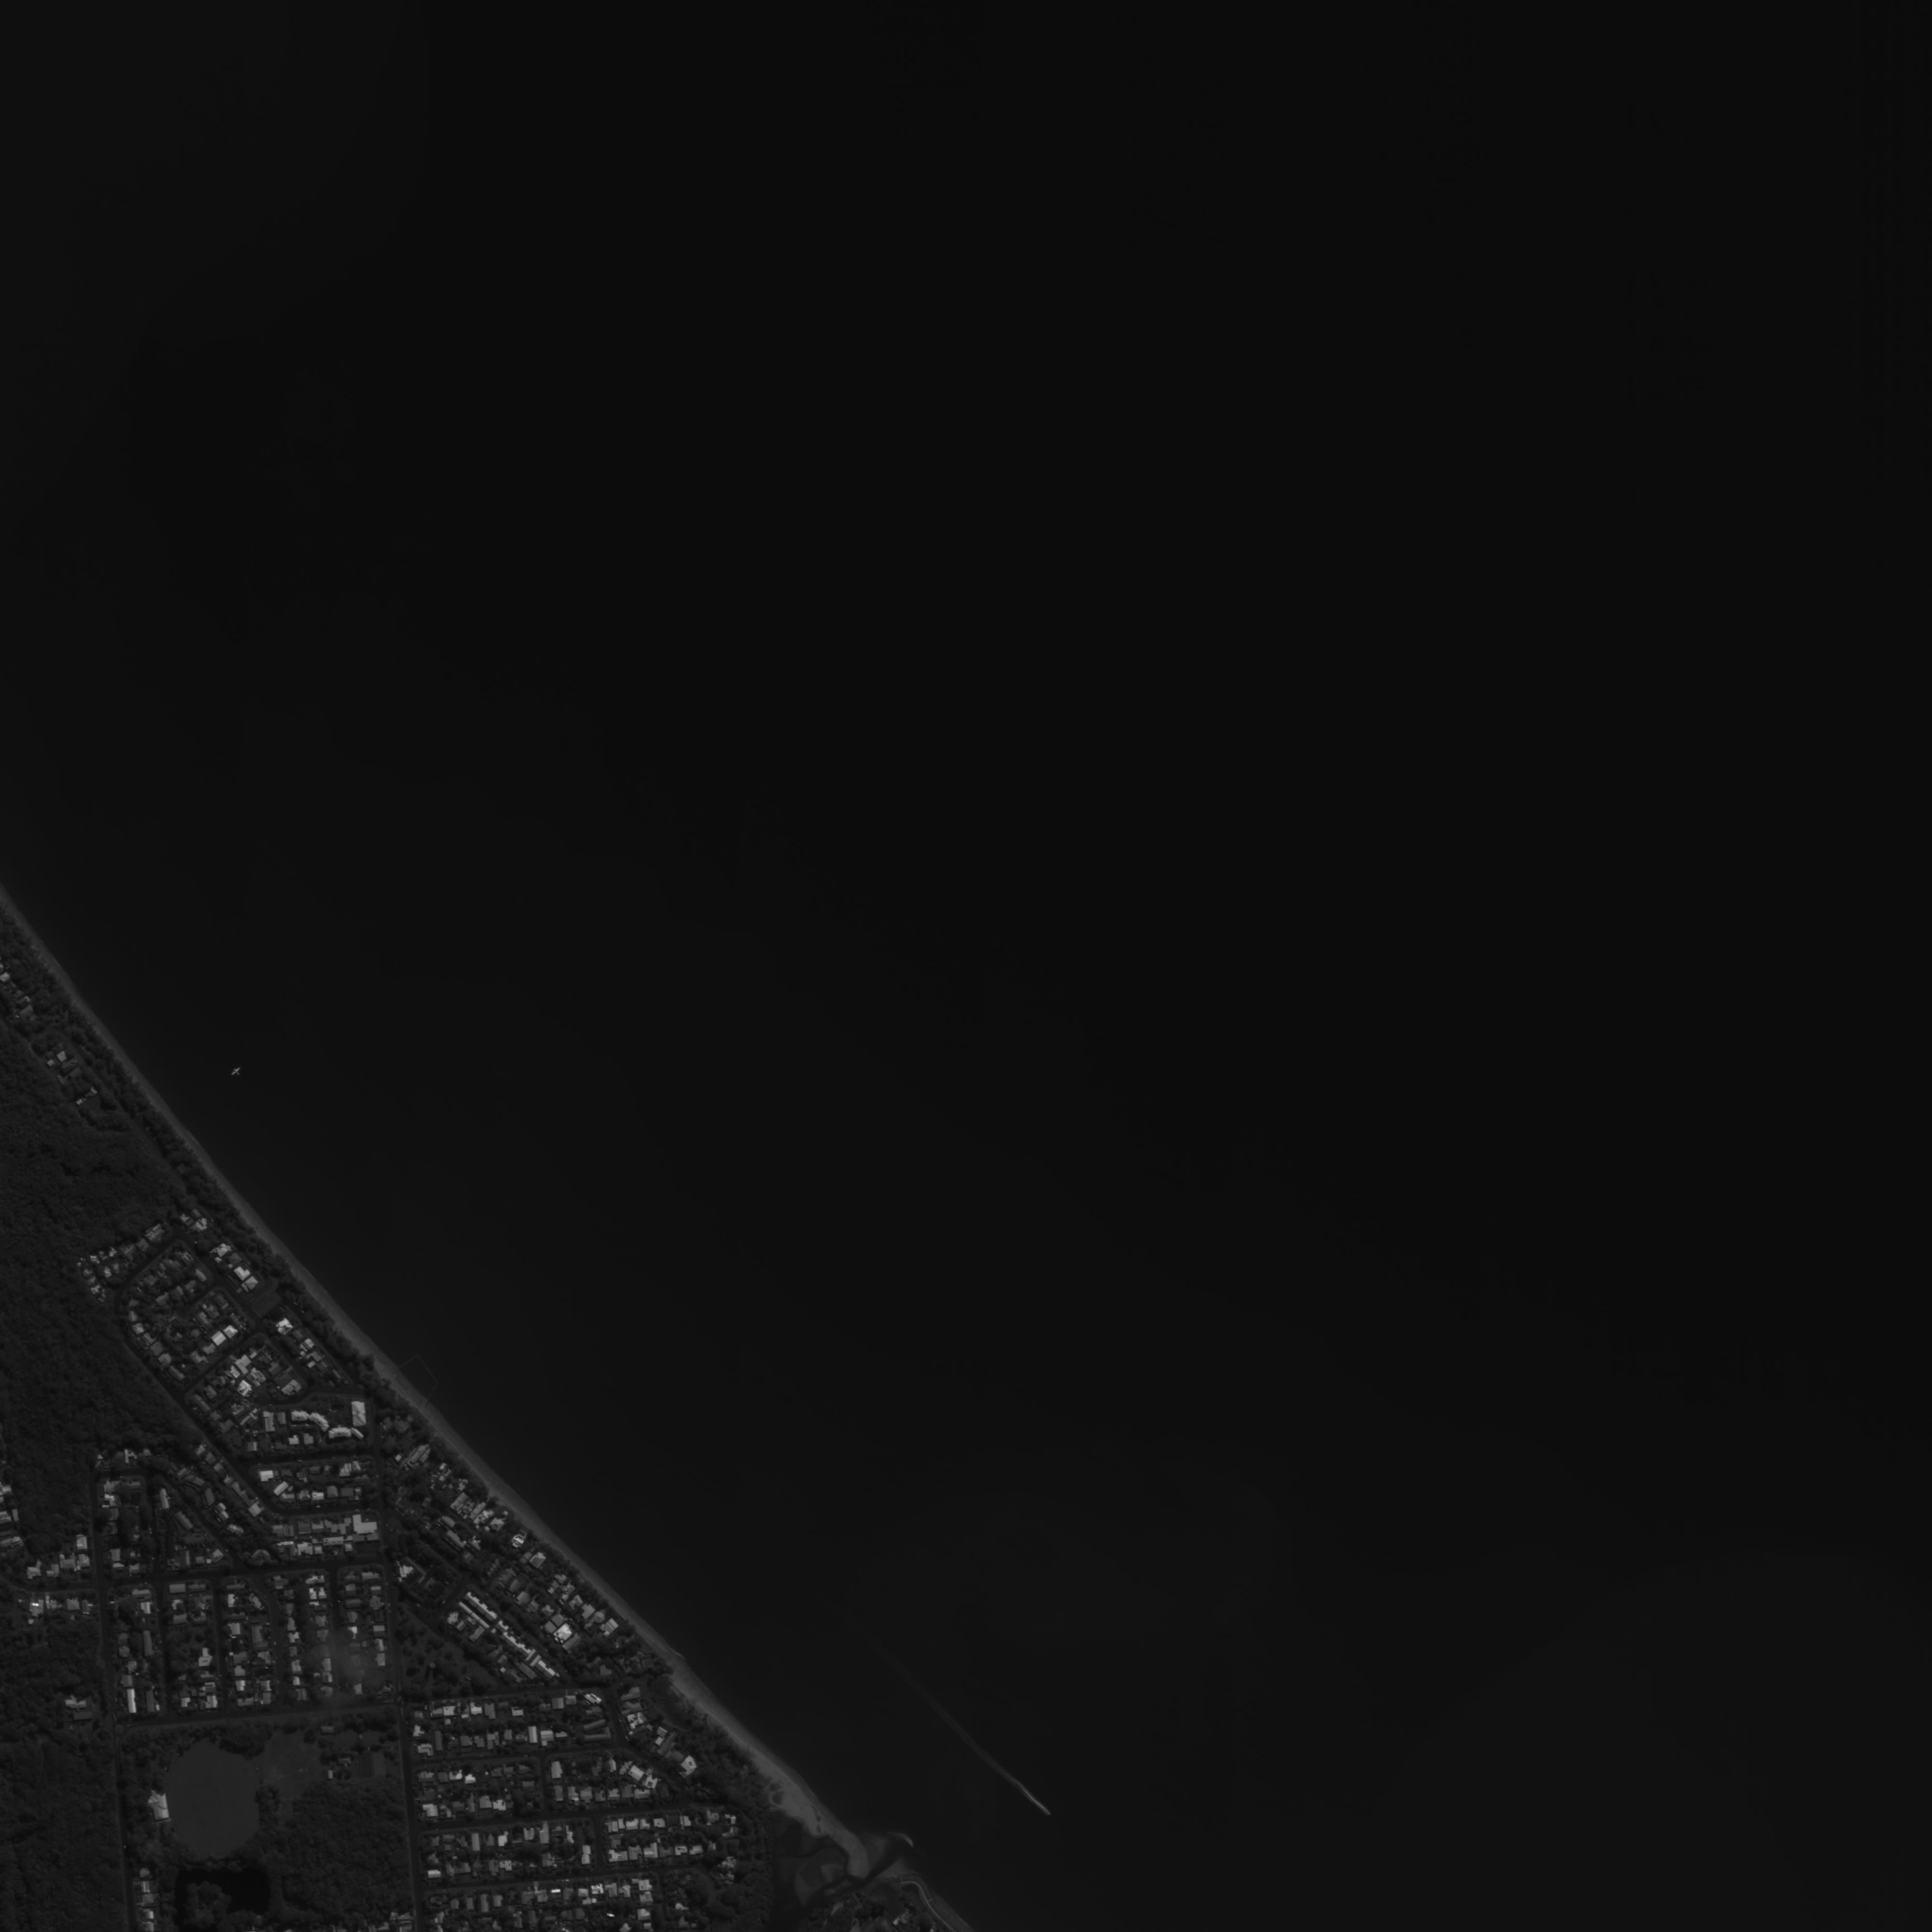plane: (228, 1063, 244, 1079)
